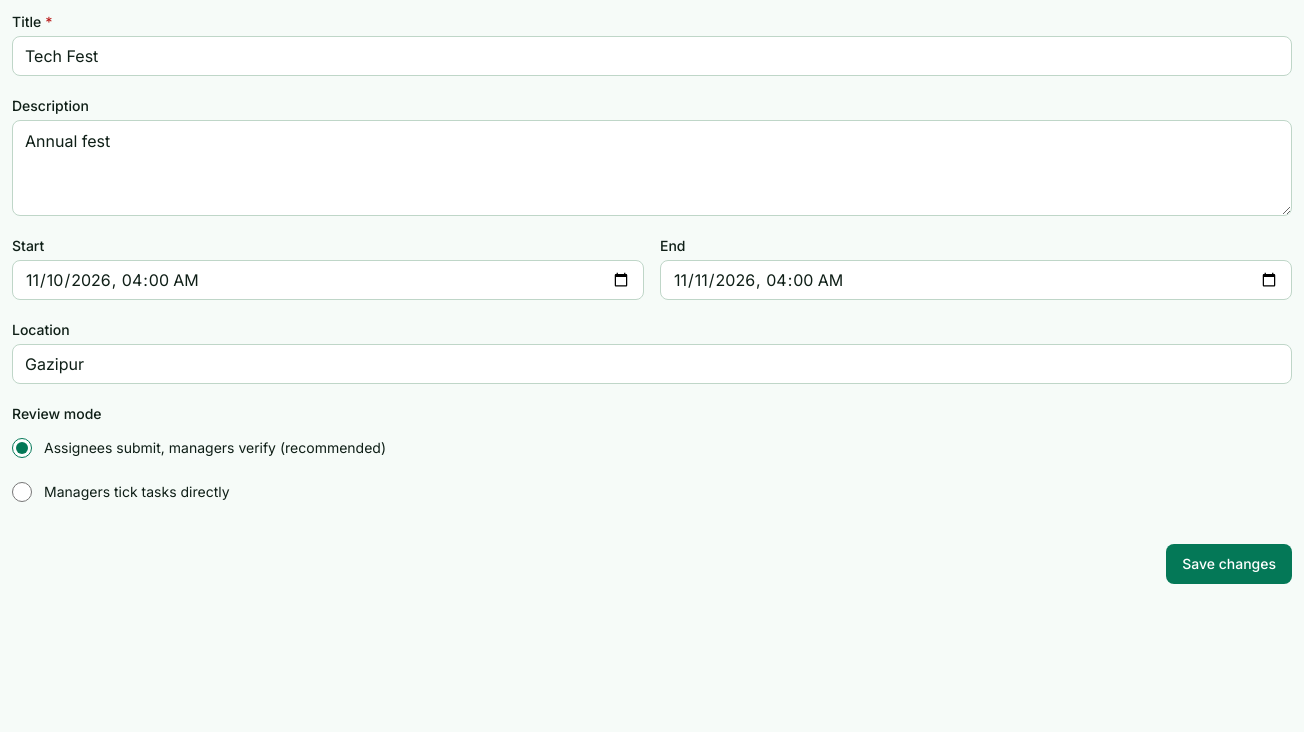
Test case: EventSettingsForm › shows the review-mode note only after the mode is changed
This screenshot has width=1304, height=732.
expect the text "Tasks already submitted stay submitted; managers can verify them." is not shown: met
Step 1. Click the radio button labelled "Managers tick tasks directly" → [22, 492], box [12,482,32,502]
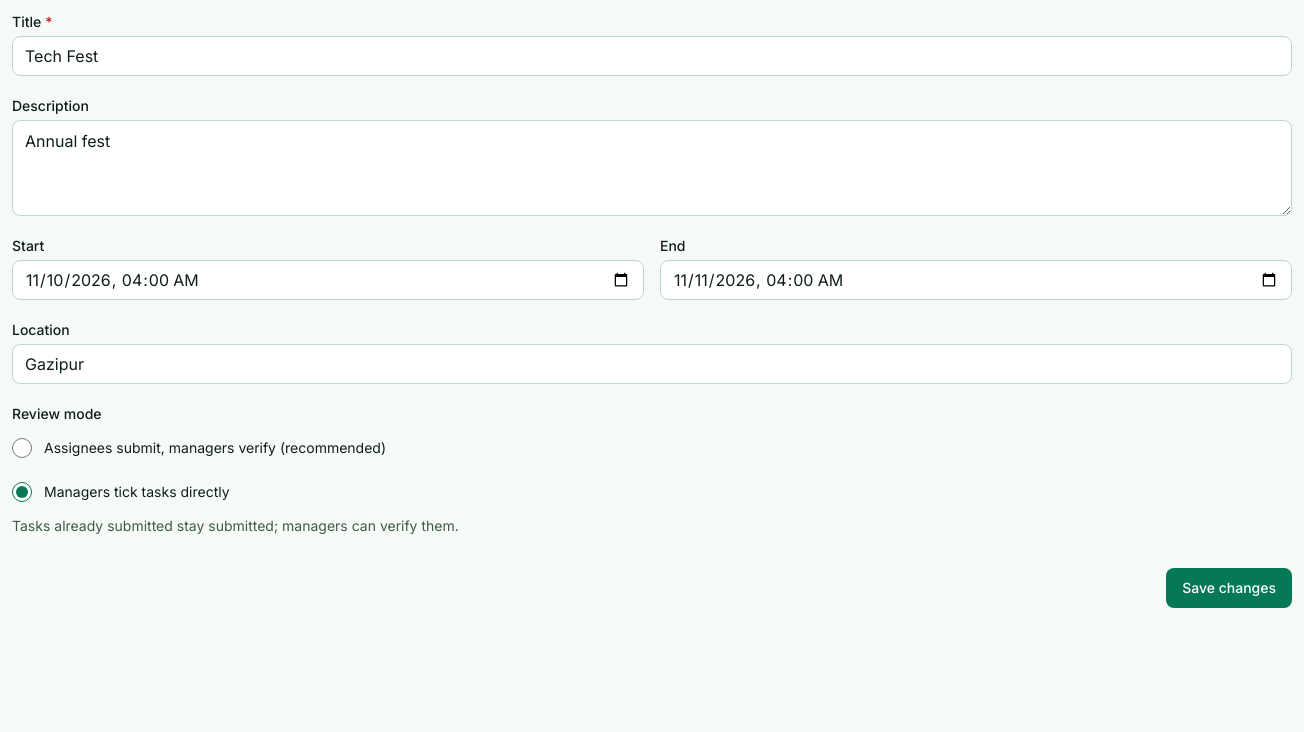
expect the text "Tasks already submitted stay submitted; managers can verify them." is shown: met, box [12,517,459,534]
Step 2. Click the radio button labelled "Assignees submit, managers verify (recommended)" → [22, 448], box [12,438,32,458]
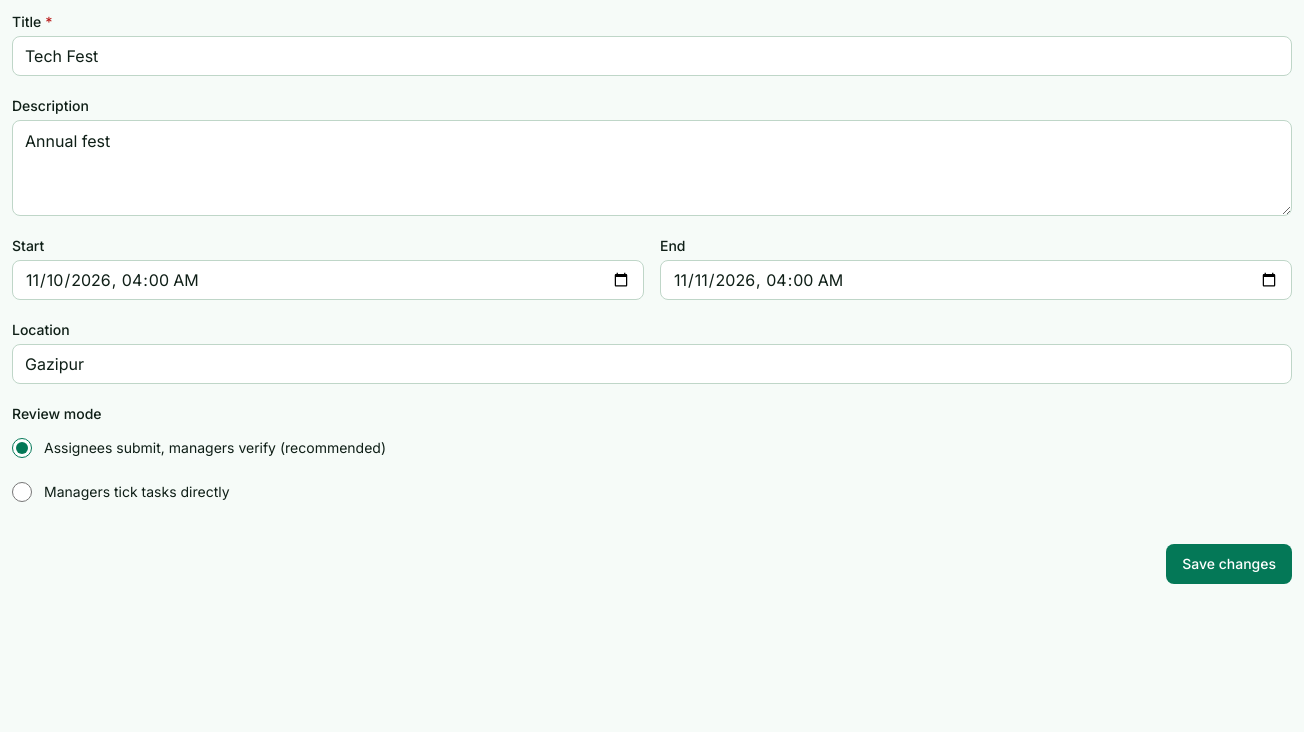
expect the text "Tasks already submitted stay submitted; managers can verify them." is gone: met
